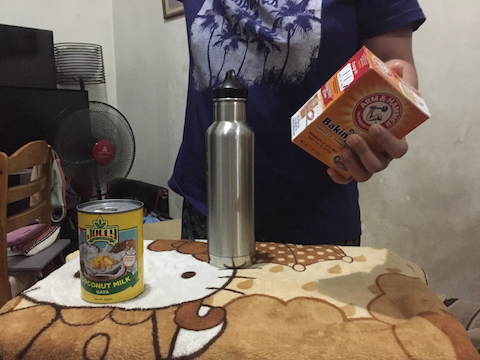bottle: (203, 67, 261, 270)
box: (289, 43, 432, 176)
can: (75, 196, 148, 306)
grab: (323, 118, 411, 189)
